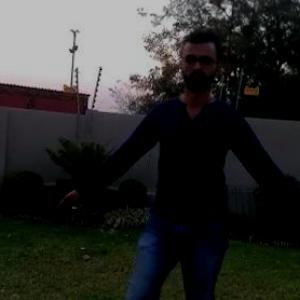land: (92, 66, 299, 299)
